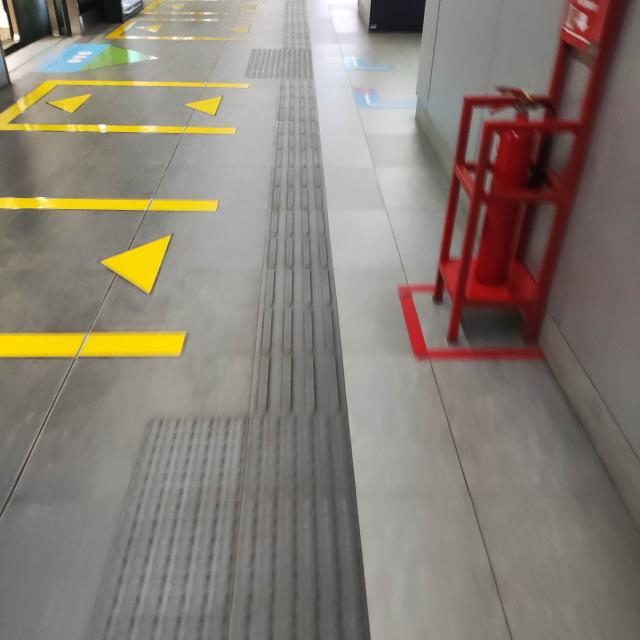lurus: (250, 0, 362, 640)
